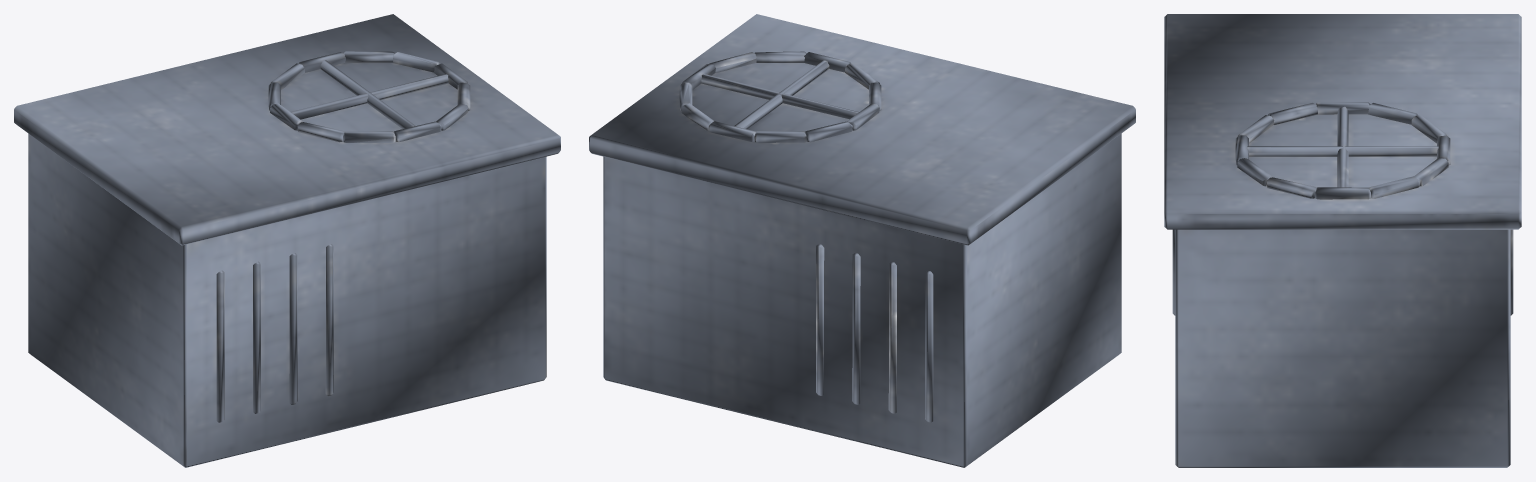
File: Equipo_AC.fbx
3 renders of one model, left to right at view 1: azimuth 30°, elevation 25°; view 2: azimuth 150°, elevation 25°; view 3: azimuth 270°, elevation 25°, orthographic. The views are drawn at different scales.
Parts seen in each view (by area): view 1: Equipo_AC; view 2: Equipo_AC; view 3: Equipo_AC.
Boxes of the visible parts, x1,y1,x2,y2 form: Equipo_AC: (14,14,560,467); Equipo_AC: (589,14,1135,467); Equipo_AC: (1164,14,1521,467).
Bounding box in the file's own units: 4.2 × 2.68 × 3.2.
